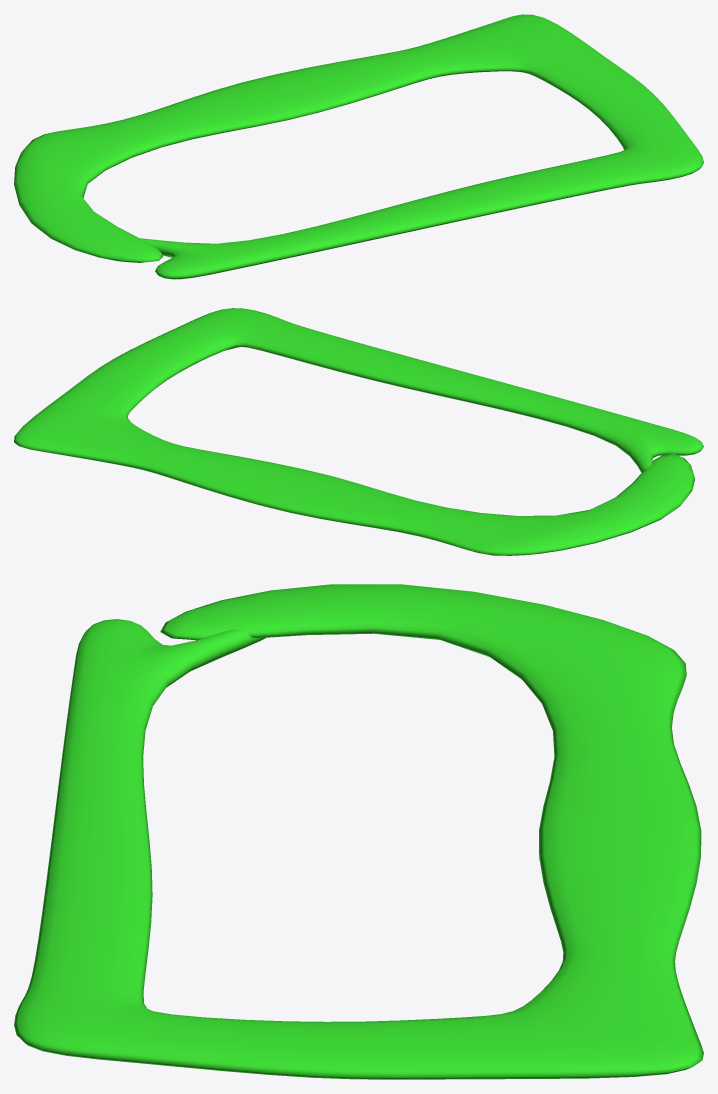
The model's file is Pond_map (1).fbx.
3 renders of one model, top to bottom at view 1: azimuth 30°, elevation 25°; view 2: azimuth 150°, elevation 25°; view 3: azimuth 270°, elevation 25°, orthographic. The views are drawn at different scales.
Parts seen in each view (by area): view 1: Cube; view 2: Cube; view 3: Cube.
Boxes of the visible parts, box(x1,y1,x2,y2) form: Cube: box(14, 14, 703, 279); Cube: box(14, 308, 703, 555); Cube: box(14, 584, 703, 1079).
Size of the model in its own units: 3.34 by 0.0823 by 1.98.
